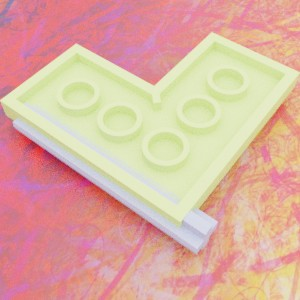lego: (0, 32, 299, 233), (12, 102, 217, 254)
